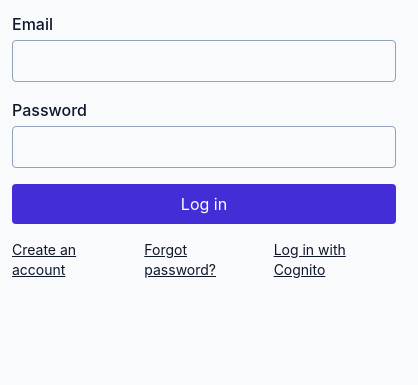
it: LoginForm › announces a wrong password with role=alert
The width and height of the screenshot is (418, 385).
Type "test@ticketlite.dev" into the field labelled "Email" at (204, 61), box x1=12 y1=40 x2=396 y2=82
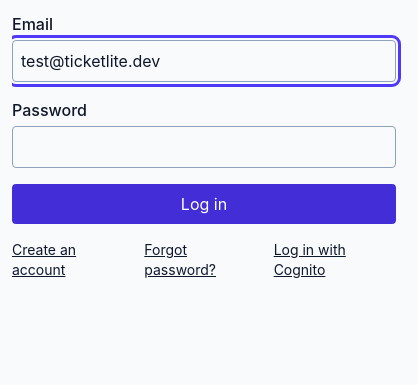
Type "wrong" into the password field labelled "Password" at (204, 147), box x1=12 y1=126 x2=396 y2=168
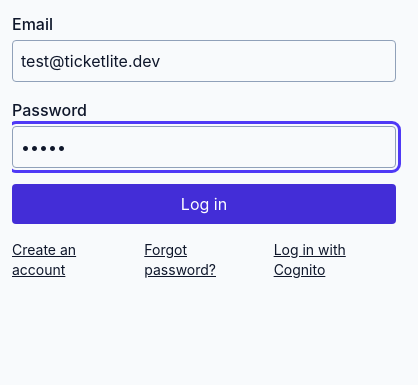
Click the button "Log in" at (204, 204), box x1=12 y1=184 x2=396 y2=224
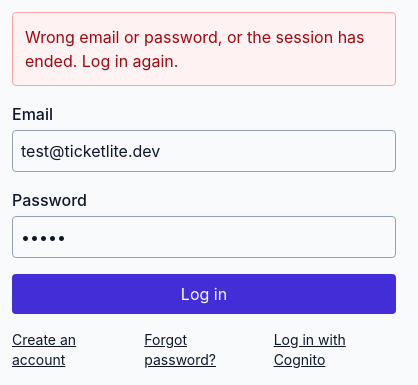
expect the message shows "Wrong email or password": met, box x1=25 y1=27 x2=364 y2=71
